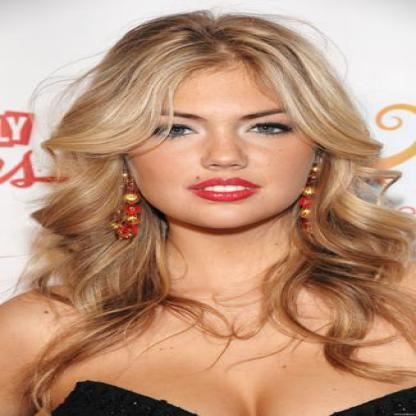long-hair: (23, 237, 406, 292)
